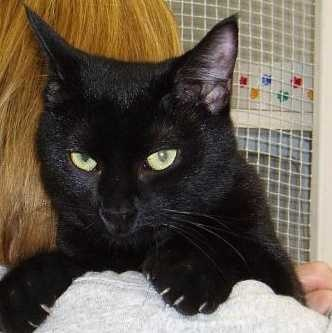Cat: (12, 7, 278, 323)
